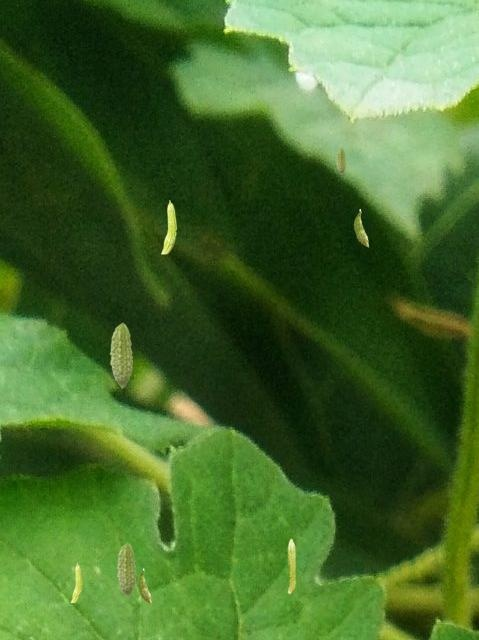ampalaya: (109, 322, 133, 388), (116, 542, 136, 597), (160, 199, 177, 254), (353, 208, 369, 247), (137, 568, 152, 604), (287, 538, 296, 594), (70, 562, 82, 603), (336, 147, 346, 174)
